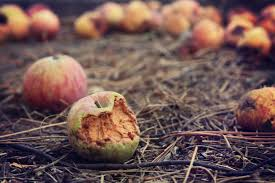apple: (23, 56, 85, 104)
damaged_apple: (67, 95, 143, 163), (232, 84, 275, 131), (190, 20, 226, 49)
